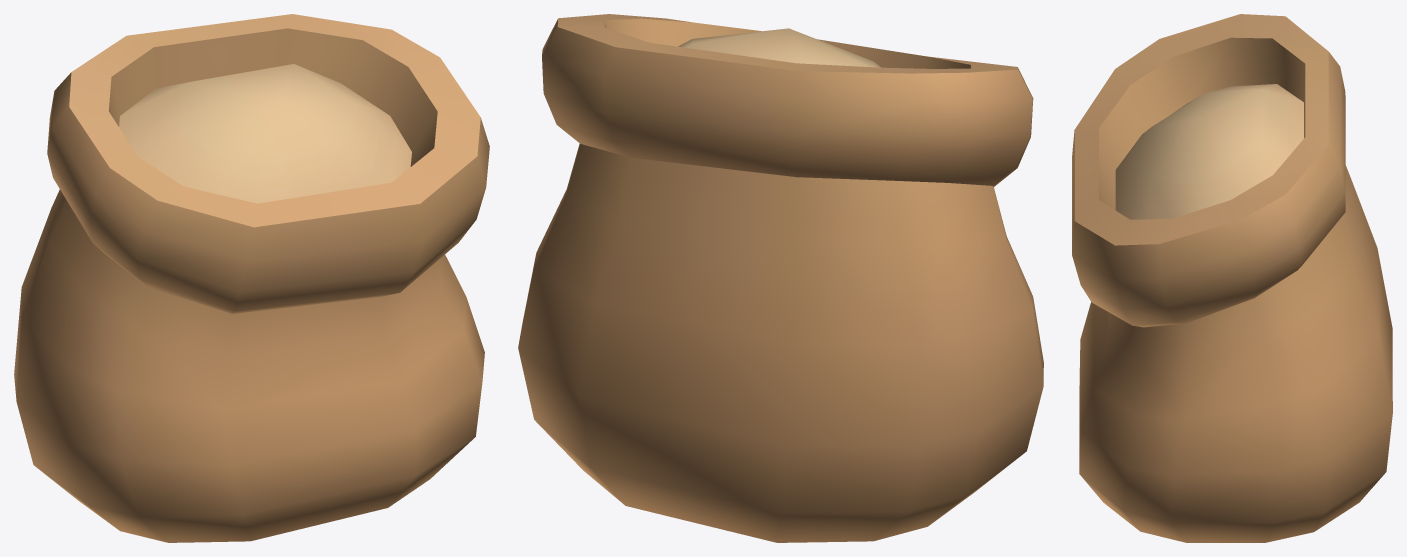
Rendered from food_flour.glb.
The picture shows the model from 3 angles, left to right: view 1: azimuth 30°, elevation 25°; view 2: azimuth 150°, elevation 25°; view 3: azimuth 270°, elevation 25°; orthographic projection. The views are drawn at different scales.
Parts seen in each view (by area): view 1: Food_Flour; view 2: Food_Flour; view 3: Food_Flour.
Part boxes in pixels (x1,y1,x2,y2): Food_Flour: (14,14,489,542); Food_Flour: (518,14,1043,542); Food_Flour: (1072,14,1392,542).
Bounding box in the file's own units: 0.6019 × 0.6056 × 0.4318.
Materials: 1 (1 with a texture image).
